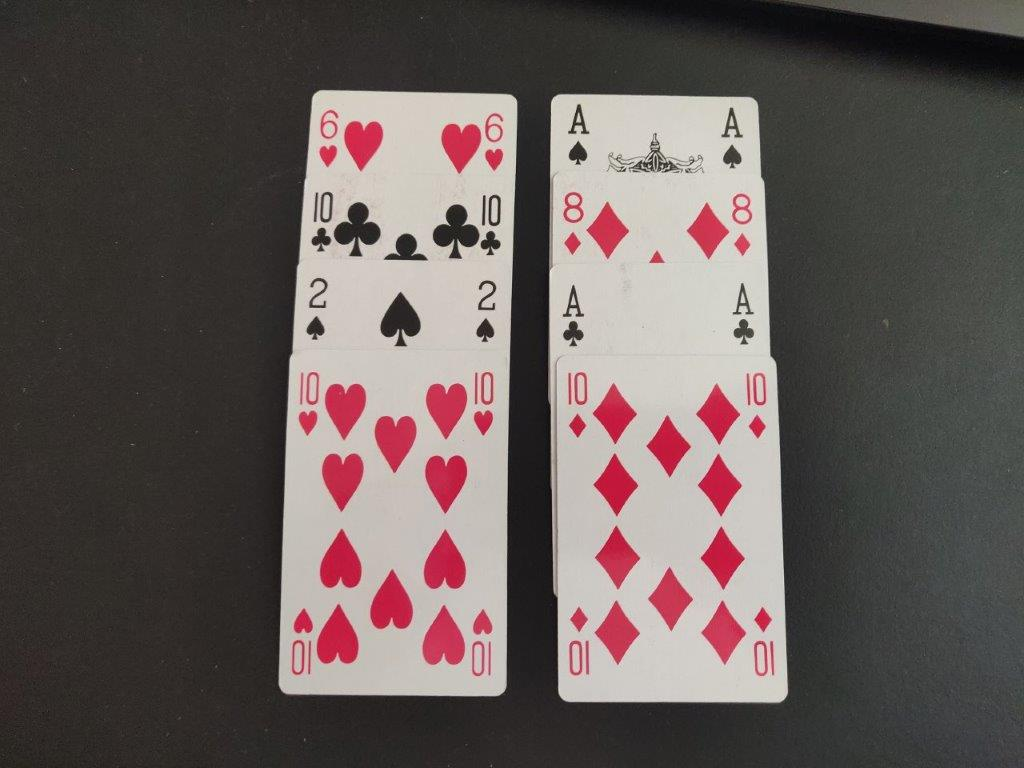10C: (475, 190, 507, 263), (307, 187, 336, 254)
10D: (560, 367, 593, 444), (740, 368, 770, 442)
10H: (293, 369, 327, 444), (465, 368, 498, 440)
2S: (470, 277, 501, 345), (304, 275, 332, 344)
6H: (314, 104, 342, 174), (482, 106, 507, 173)
8D: (555, 186, 588, 261), (725, 188, 756, 259)
AC: (556, 282, 589, 352), (729, 279, 758, 348)
AS: (561, 99, 594, 172), (717, 102, 745, 177)
